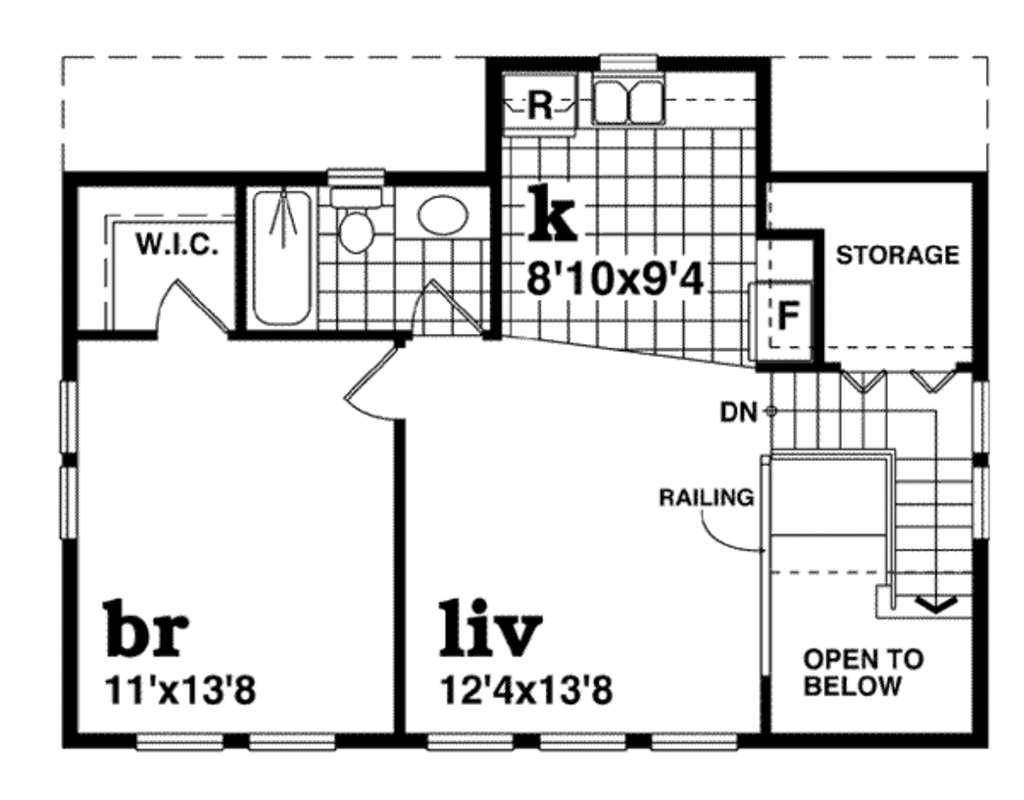door: (341, 335, 412, 421), (141, 275, 224, 346), (398, 273, 483, 342)
large_sink: (330, 189, 387, 265)
small_sink: (396, 181, 486, 239)
stairs: (767, 364, 973, 616)
tub: (250, 184, 322, 330)
twin_sink: (587, 63, 664, 126)
window: (419, 730, 736, 752), (131, 731, 340, 758), (52, 383, 85, 540)
